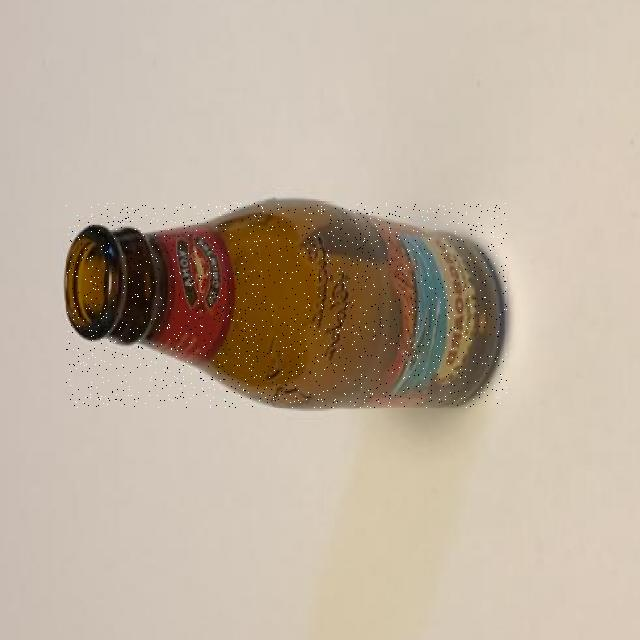glass: (67, 203, 507, 408)
